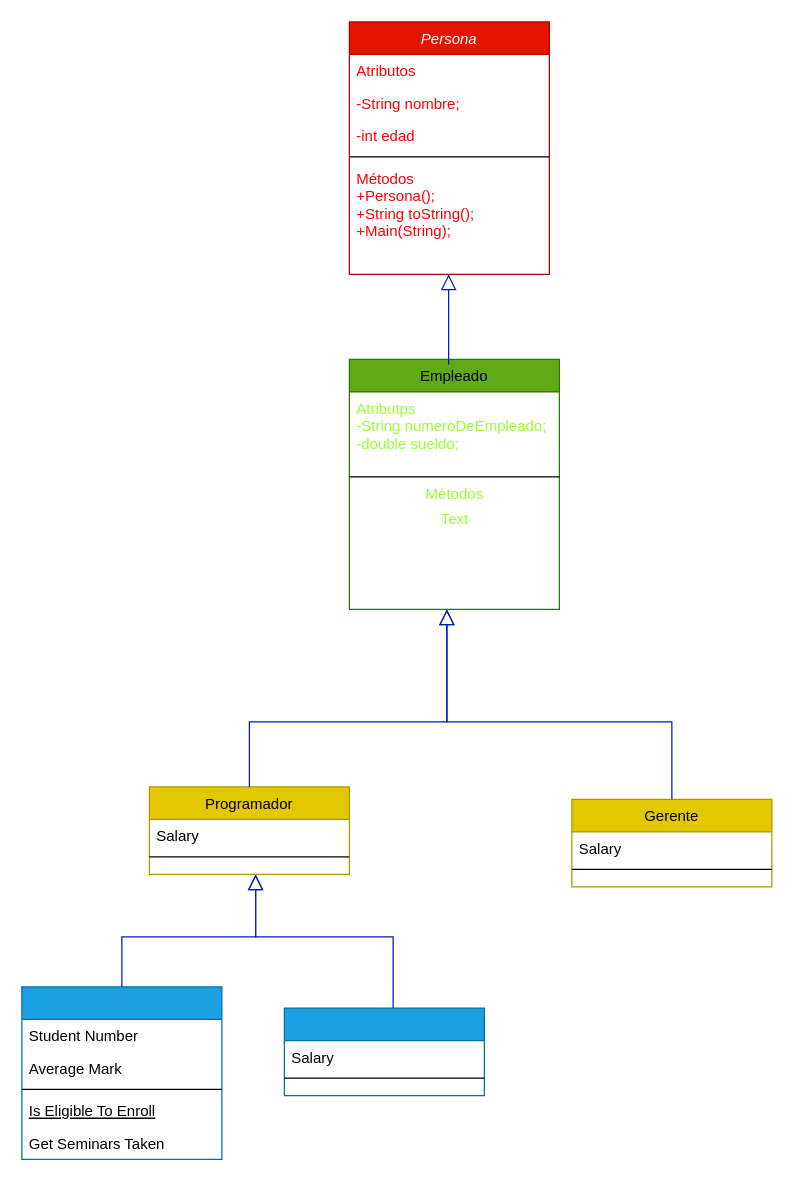
Some shapes in this 794 by 1185 pixel diagram are drawn without their labels. The box of each missing label's shape, as (x1, y1, x2, y2) in pixels:
ProgramadorBackEnd: (21, 986, 222, 1159)
ProgramadorForntEnd: (283, 1007, 484, 1096)
